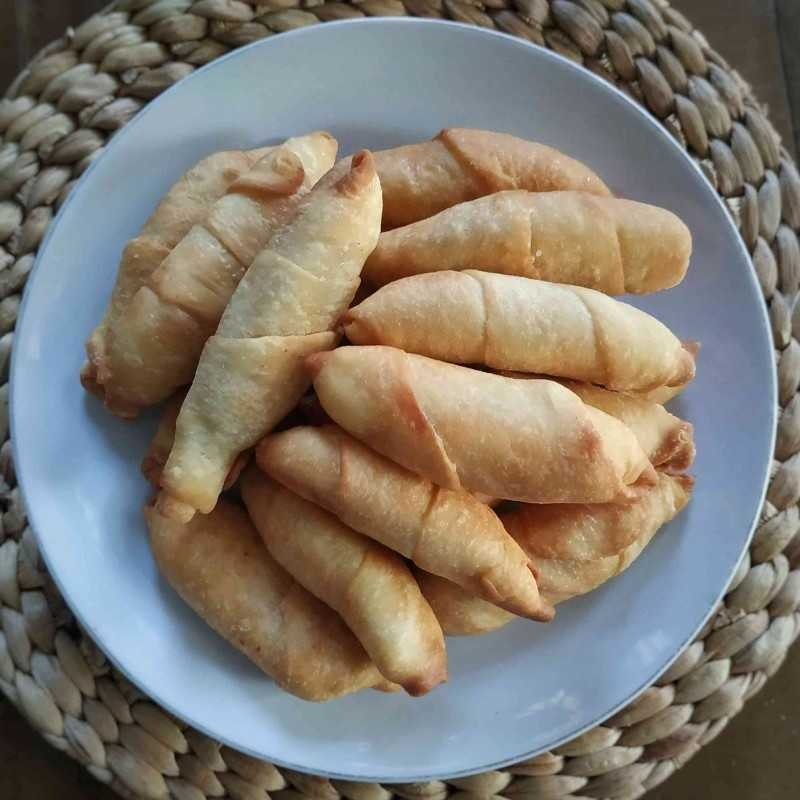pisang_molen: (153, 146, 379, 515), (309, 343, 661, 507), (345, 269, 696, 392), (370, 194, 695, 290)
